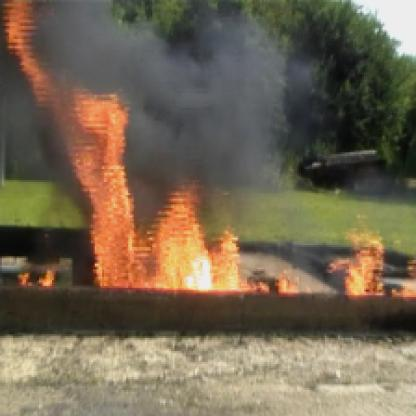Fire: (60, 86, 306, 296)
Smoke: (117, 39, 238, 173)
